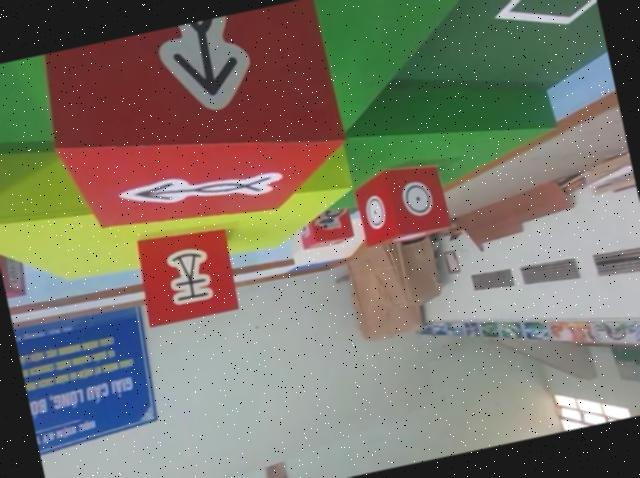R1: (293, 198, 356, 254)
R2 Real: (33, 0, 355, 256), (127, 216, 248, 335), (348, 152, 456, 254)
